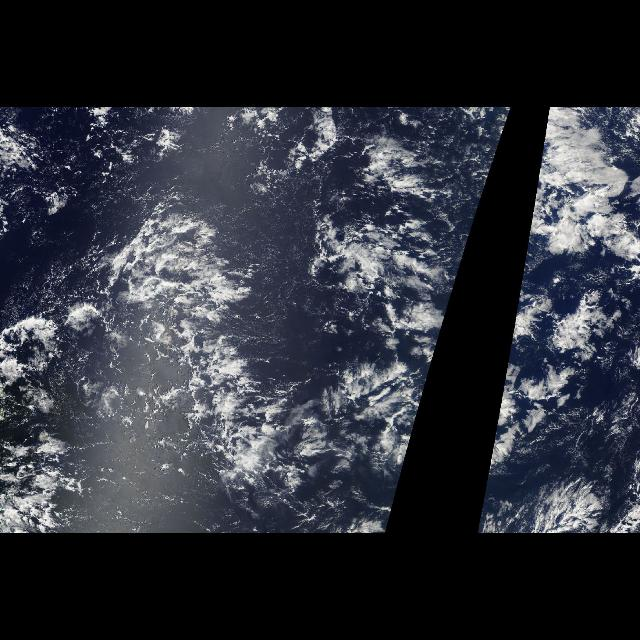Fish: (3, 219, 475, 533), (476, 219, 594, 533)
Sugar: (82, 147, 432, 475)
